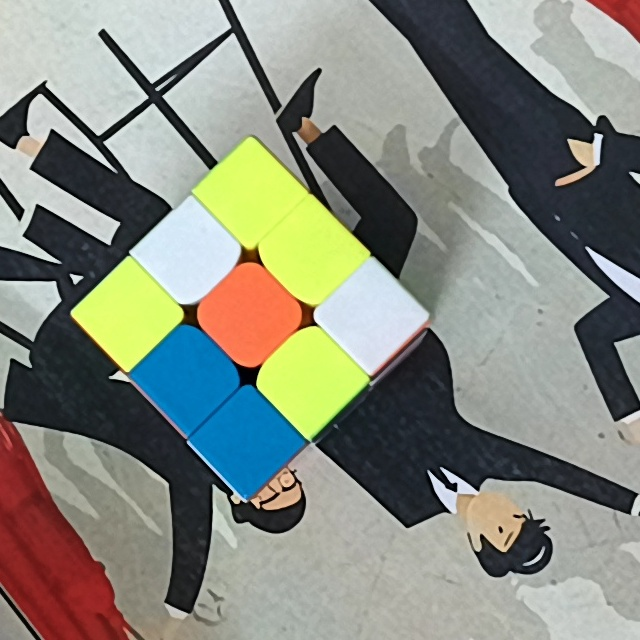tile: (220, 409, 277, 470), (286, 223, 344, 280), (219, 288, 278, 343), (158, 350, 214, 406), (99, 288, 156, 343), (345, 290, 400, 346), (221, 168, 278, 222), (284, 350, 338, 407), (160, 225, 215, 280)
